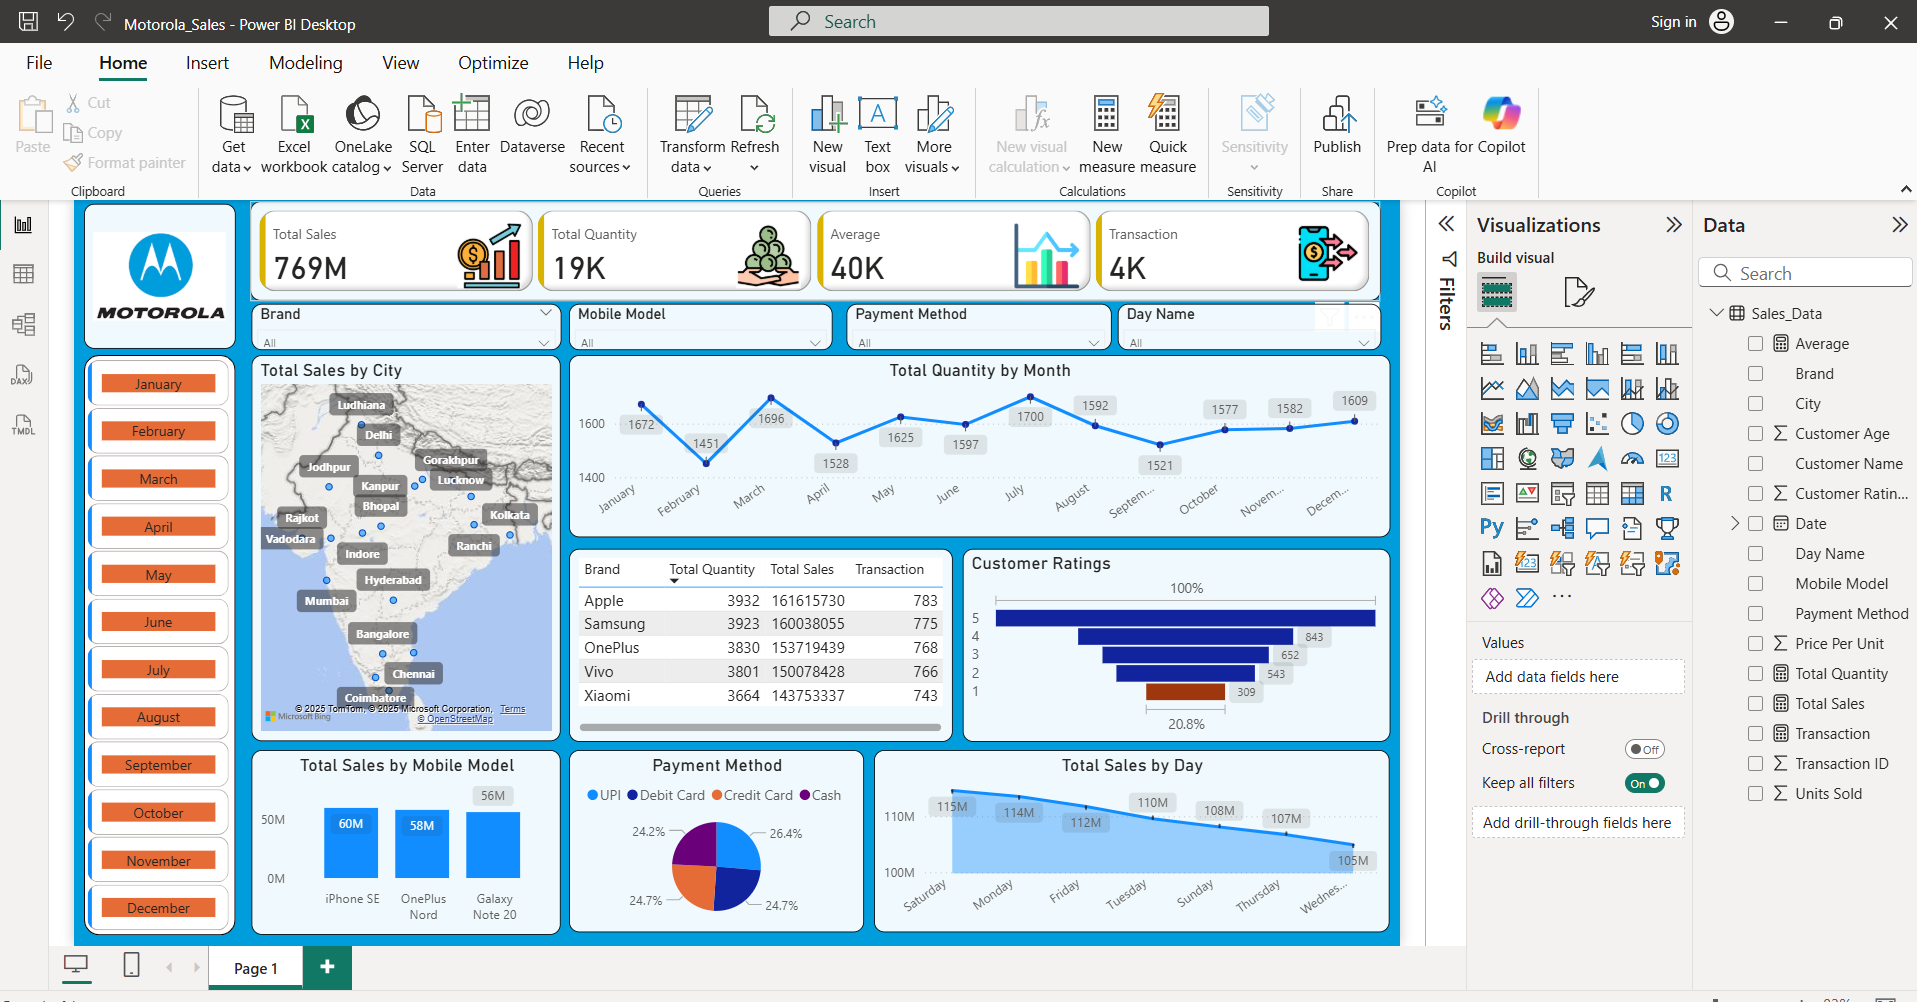

The page's visual inventory and layout, read from the dashboard file:
{"tool":"powerbi","page":{"name":"Page 1","canvas":[1280,720],"ordinal":0},"visuals":[{"type":"image","box":[10,3.8,146.2,140],"z":0},{"type":"shape","box":[10,150,146.2,560],"z":1000},{"type":"advancedSlicerVisual","fields":{"Values":["Sales_Data.Date.Variation.Date Hierarchy.Month"]},"box":[9,150,146.2,570],"z":2000},{"type":"cardVisual","fields":{"Data":["Sales_Data.Total Sales","Sales_Data.Total Quantity","Sales_Data.Average","Sales_Data.Transaction"]},"box":[170,1,1091.2,96.2],"z":3000},{"type":"map","fields":{"Category":["Sales_Data.City"]},"box":[171.2,150,298.8,372.5],"z":4000},{"type":"lineChart","fields":{"Category":["Sales_Data.Date.Variation.Date Hierarchy.Month","Sales_Data.Date.Variation.Date Hierarchy.Day"],"Y":["Sales_Data.Total Quantity"]},"box":[477.5,150,792.5,176.2],"z":5000},{"type":"clusteredColumnChart","fields":{"Y":["Sales_Data.Total Sales"],"Category":["Sales_Data.Mobile Model"]},"box":[171.2,531.2,298.8,178.8],"z":6000},{"type":"pieChart","title":"Payment Method","fields":{"Category":["Sales_Data.Payment Method"],"Y":["Sales_Data.Transaction"]},"box":[477.5,531.2,285,176.2],"z":7000},{"type":"funnel","title":"Customer Ratings","fields":{"Category":["Sales_Data.Customer Ratings"],"Y":["CountNonNull(Sales_Data.Customer Ratings)"]},"box":[857.5,336.2,412.5,186.2],"z":8000},{"type":"areaChart","title":"Total Sales by Day","fields":{"Category":["Sales_Data.Day Name"],"Y":["Sales_Data.Total Sales"]},"box":[772.5,531.2,497.5,176.2],"z":9000},{"type":"tableEx","title":"Payment Method","fields":{"Values":["Sales_Data.Brand","Sales_Data.Total Quantity","Sales_Data.Total Sales","Sales_Data.Transaction"]},"box":[477.5,336.2,370,186.2],"z":10000},{"type":"slicer","fields":{"Values":["Sales_Data.Mobile Model"]},"box":[171.2,98.8,298.8,45],"z":11000},{"type":"slicer","fields":{"Values":["Sales_Data.Mobile Model"]},"box":[477.5,98.8,255,45],"z":11001},{"type":"slicer","fields":{"Values":["Sales_Data.Mobile Model"]},"box":[741.2,98.8,255,45],"z":11002},{"type":"slicer","fields":{"Values":["Sales_Data.Mobile Model"]},"box":[1007.5,98.8,255,45],"z":11003}]}

Visuals, with their boxes on the page's 1280x720 design canvas (x1, y1, x2, y2). These are canvas units, not pixel positions in the 1917x1002 screenshot, which may show the page scaled, cropped or inside an application window:
image: 10,4,156,144
shape: 10,150,156,710
advancedSlicerVisual - Sales_Data.Date.Variation.Date Hierarchy.Month: 9,150,155,720
cardVisual - Sales_Data.Total Sales x Sales_Data.Total Quantity: 170,1,1261,97
map - Sales_Data.City: 171,150,470,522
lineChart - Sales_Data.Date.Variation.Date Hierarchy.Month x Sales_Data.Date.Variation.Date Hierarchy.Day: 478,150,1270,326
clusteredColumnChart - Sales_Data.Total Sales x Sales_Data.Mobile Model: 171,531,470,710
"Payment Method" pieChart: 478,531,762,707
"Customer Ratings" funnel: 858,336,1270,522
"Total Sales by Day" areaChart: 772,531,1270,707
"Payment Method" tableEx: 478,336,848,522
slicer - Sales_Data.Mobile Model: 171,99,470,144
slicer - Sales_Data.Mobile Model: 478,99,732,144
slicer - Sales_Data.Mobile Model: 741,99,996,144
slicer - Sales_Data.Mobile Model: 1008,99,1262,144
